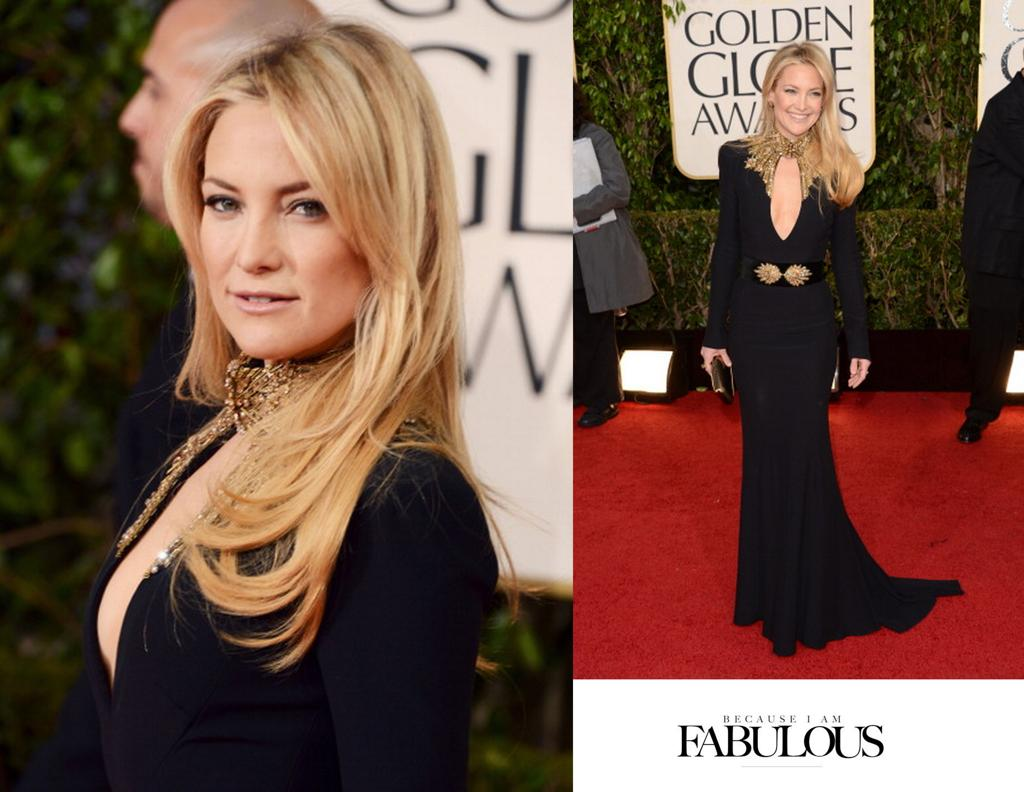face: (200, 127, 374, 359), (118, 17, 263, 221), (774, 72, 823, 134)
